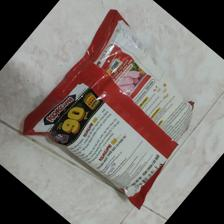Kokomi: (22, 9, 205, 214)
